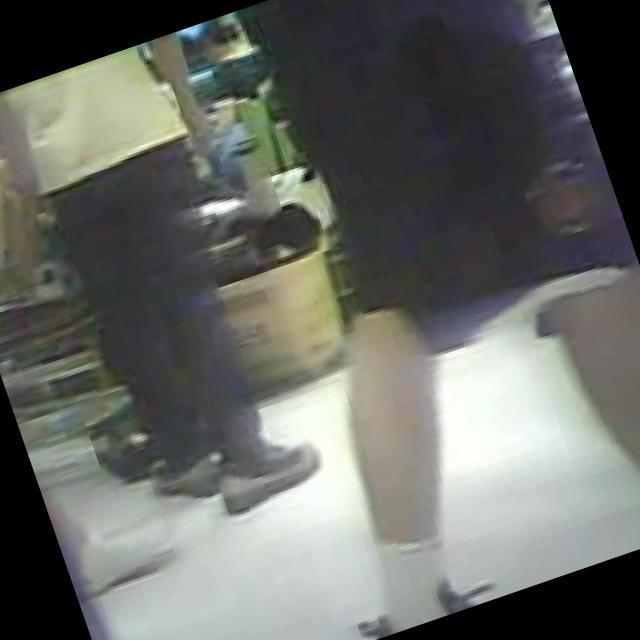person: (182, 0, 640, 634), (4, 31, 331, 534)
